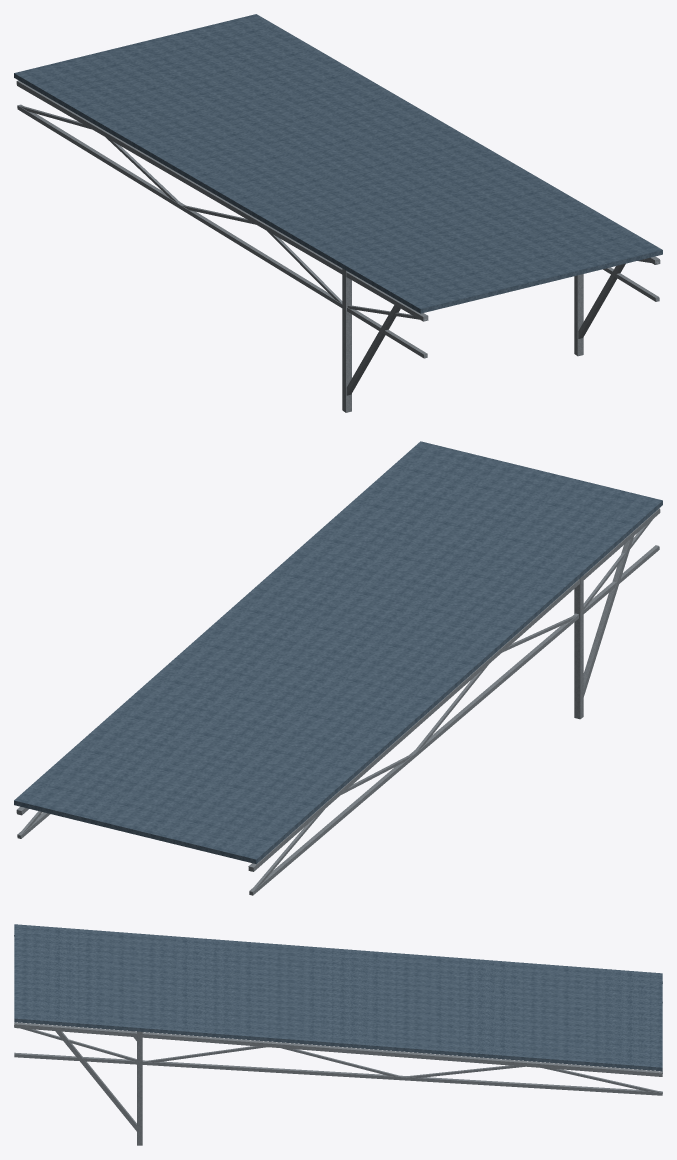
File: PZ_Stadium_Roof_Truss_Bay_10p5M.glb
3 renders of one model, top to bottom at view 1: azimuth 30°, elevation 25°; view 2: azimuth 150°, elevation 25°; view 3: azimuth 270°, elevation 25°, orthographic. The views are drawn at different scales.
Visible parts, largest first — view 1: ROOF_TRUSS_STRAIGHT_BAY__ROOF_SHEET, ROOF_TRUSS_STRAIGHT_BAY__ROOF_TRUSS_CHORD, ROOF_TRUSS_STRAIGHT_BAY__ROOF_SUPPORT_COLUMNS, ROOF_TRUSS_STRAIGHT_BAY__ROOF_TRUSS_BRACES; view 2: ROOF_TRUSS_STRAIGHT_BAY__ROOF_SHEET, ROOF_TRUSS_STRAIGHT_BAY__ROOF_TRUSS_CHORD, ROOF_TRUSS_STRAIGHT_BAY__ROOF_SUPPORT_COLUMNS, ROOF_TRUSS_STRAIGHT_BAY__ROOF_TRUSS_BRACES; view 3: ROOF_TRUSS_STRAIGHT_BAY__ROOF_SHEET, ROOF_TRUSS_STRAIGHT_BAY__ROOF_TRUSS_CHORD, ROOF_TRUSS_STRAIGHT_BAY__ROOF_TRUSS_BRACES, ROOF_TRUSS_STRAIGHT_BAY__ROOF_SUPPORT_COLUMNS.
Boxes of the visible parts, bbox=[...] form: ROOF_TRUSS_STRAIGHT_BAY__ROOF_SHEET: bbox=[14, 14, 662, 313]; ROOF_TRUSS_STRAIGHT_BAY__ROOF_TRUSS_CHORD: bbox=[16, 80, 660, 358]; ROOF_TRUSS_STRAIGHT_BAY__ROOF_SUPPORT_COLUMNS: bbox=[342, 263, 625, 412]; ROOF_TRUSS_STRAIGHT_BAY__ROOF_TRUSS_BRACES: bbox=[20, 105, 658, 320]; ROOF_TRUSS_STRAIGHT_BAY__ROOF_SHEET: bbox=[14, 441, 662, 864]; ROOF_TRUSS_STRAIGHT_BAY__ROOF_TRUSS_CHORD: bbox=[16, 508, 660, 895]; ROOF_TRUSS_STRAIGHT_BAY__ROOF_SUPPORT_COLUMNS: bbox=[574, 536, 633, 719]; ROOF_TRUSS_STRAIGHT_BAY__ROOF_TRUSS_BRACES: bbox=[18, 519, 652, 893]; ROOF_TRUSS_STRAIGHT_BAY__ROOF_SHEET: bbox=[14, 924, 662, 1071]; ROOF_TRUSS_STRAIGHT_BAY__ROOF_TRUSS_CHORD: bbox=[14, 981, 662, 1095]; ROOF_TRUSS_STRAIGHT_BAY__ROOF_TRUSS_BRACES: bbox=[14, 935, 662, 1093]; ROOF_TRUSS_STRAIGHT_BAY__ROOF_SUPPORT_COLUMNS: bbox=[55, 1031, 142, 1145].
Bounding box in the file's own units: 10.5 × 6.65 × 30.53.
Materials: 2 (2 with a texture image).
